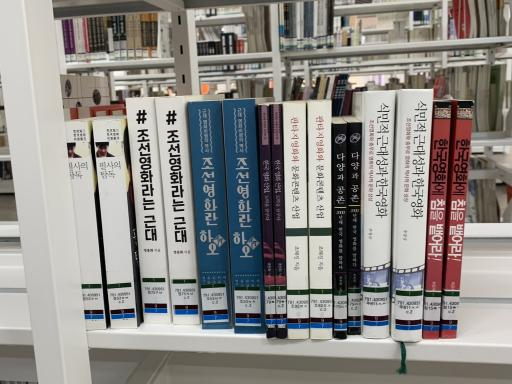book-spine: (155, 96, 201, 325), (392, 89, 433, 342), (188, 100, 233, 330), (222, 100, 266, 334), (126, 97, 171, 324), (93, 120, 138, 330), (64, 122, 107, 331), (362, 91, 396, 339), (440, 101, 474, 339), (423, 101, 452, 339), (283, 102, 310, 339), (308, 101, 333, 339), (258, 105, 277, 339), (270, 104, 287, 339), (348, 122, 362, 335), (334, 123, 347, 339)
